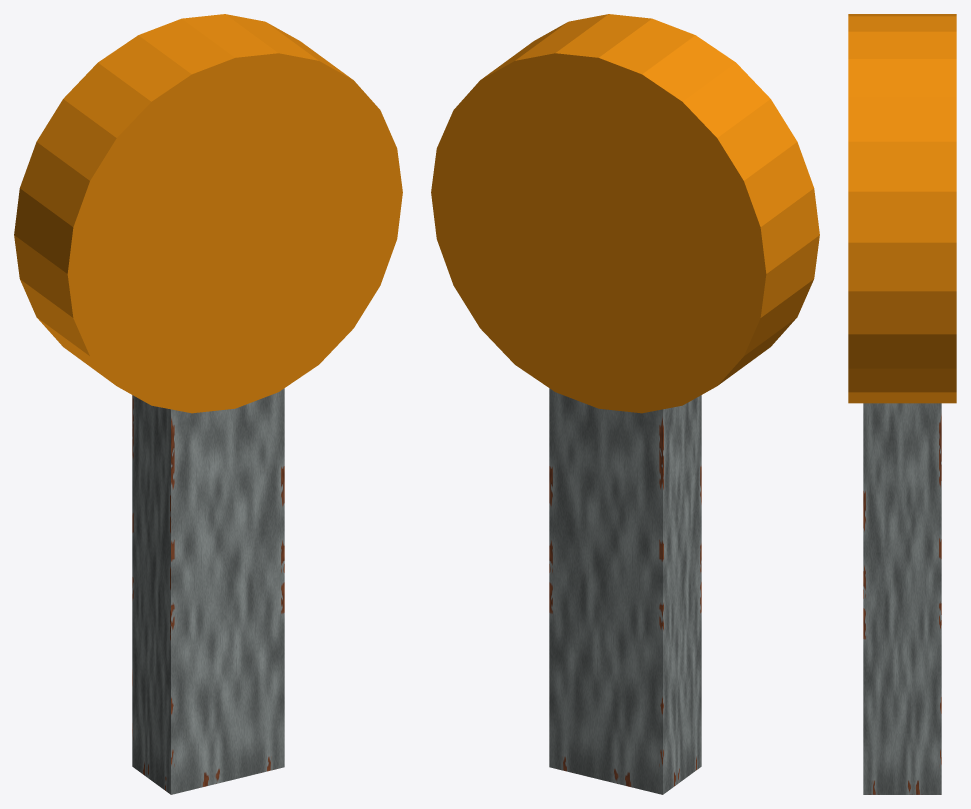
File: Prop_KeyProp.obj
3 views of the same model, side by side, from view 1: azimuth 30°, elevation 25°; view 2: azimuth 150°, elevation 25°; view 3: azimuth 270°, elevation 25° (orthographic).
Visible parts, largest first — view 1: KeyHead, KeyBlade; view 2: KeyHead, KeyBlade; view 3: KeyHead, KeyBlade.
Part boxes in pixels (<box>): KeyHead: <box>14,14,402,413</box>; KeyBlade: <box>132,388,284,794</box>; KeyHead: <box>431,14,819,413</box>; KeyBlade: <box>549,388,701,794</box>; KeyHead: <box>848,14,956,403</box>; KeyBlade: <box>863,403,941,794</box>.
Size of the model in its own units: 0.065 by 0.135 by 0.018.
2 materials, 1 textured.
